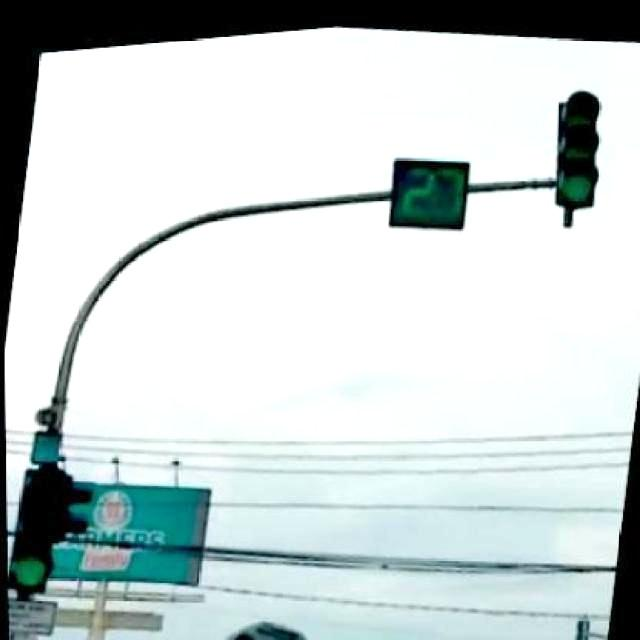Green: (2, 467, 92, 602), (554, 92, 600, 226)
